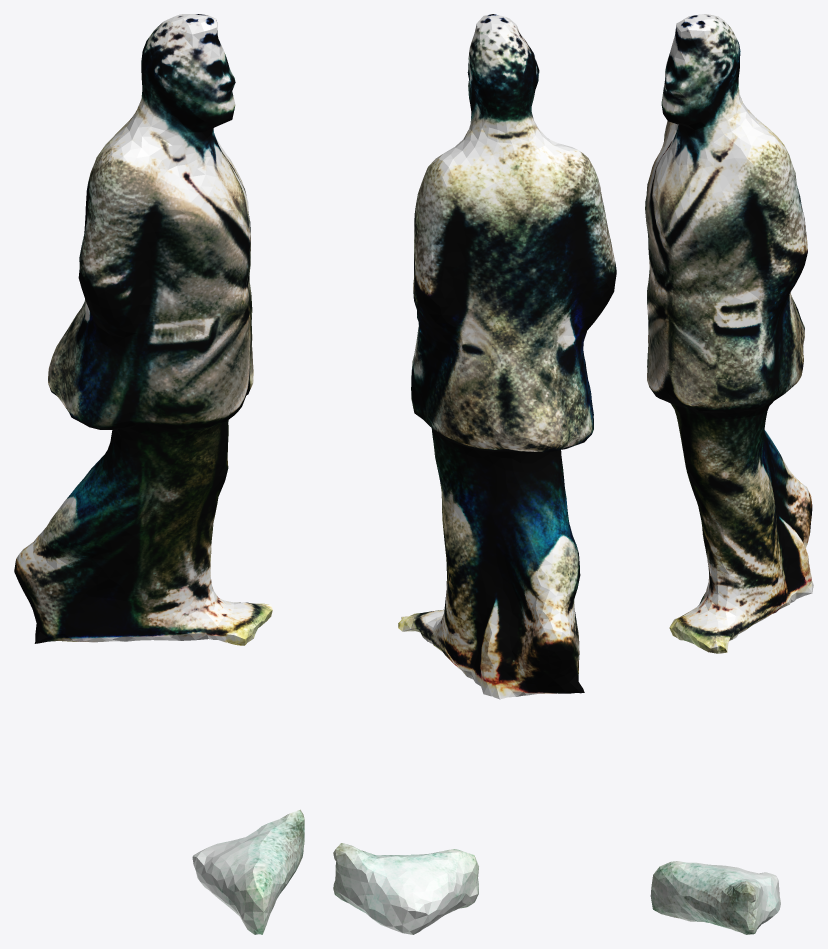
3 renders of one model, left to right at view 1: azimuth 30°, elevation 25°; view 2: azimuth 150°, elevation 25°; view 3: azimuth 270°, elevation 25°, orthographic. The views are drawn at different scales.
Parts seen in each view (by area): view 1: mesh.obj; view 2: mesh.obj; view 3: mesh.obj.
Part boxes in pixels (left/top/right/bottom): mesh.obj: left=14, top=14, right=304, bottom=934; mesh.obj: left=333, top=14, right=616, bottom=934; mesh.obj: left=645, top=14, right=813, bottom=934.
Bounding box in the file's own units: 0.2498 × 0.8368 × 0.1462.
1 material, 1 textured.
